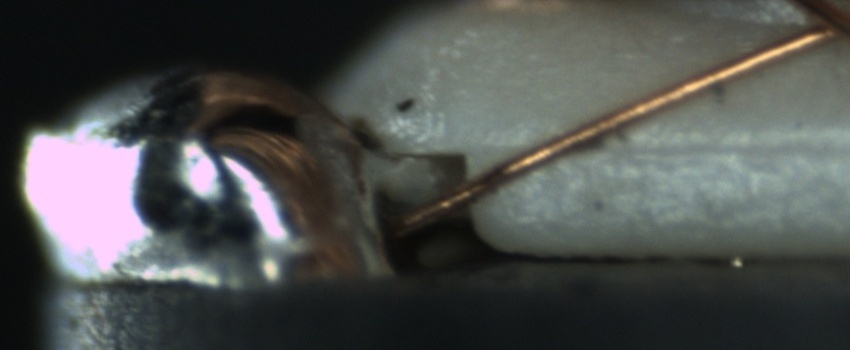CL: (763, 3, 850, 57)
DL: (519, 116, 850, 175)
